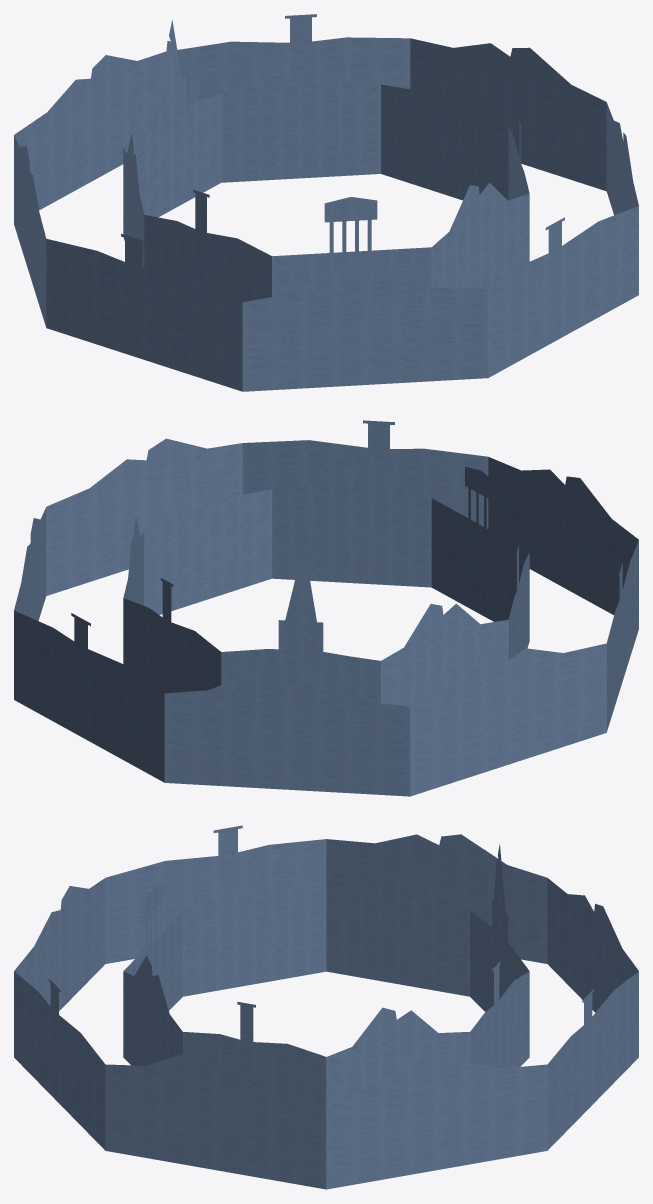
File: env-backdrop-a.glb
3 renders of one model, top to bottom at view 1: azimuth 30°, elevation 25°; view 2: azimuth 150°, elevation 25°; view 3: azimuth 270°, elevation 25°, orthographic. The views are drawn at different scales.
Parts seen in each view (by area): view 1: VIS_backdrop_far_06_gable, VIS_backdrop_far_05_chimney, VIS_backdrop_near_02_chimney, VIS_backdrop_far_07_chimney, VIS_backdrop_far_01_gable, VIS_backdrop_far_03_gable, VIS_backdrop_near_01_gable, VIS_backdrop_far_02_chimney, VIS_backdrop_near_03_spire, VIS_backdrop_near_07_gable, VIS_backdrop_near_05_chimney, VIS_backdrop_near_06_tower (+4 smaller); view 2: VIS_backdrop_far_03_gable, VIS_backdrop_far_04_gable, VIS_backdrop_near_07_gable, VIS_backdrop_far_08_gable, VIS_backdrop_far_02_chimney, VIS_backdrop_far_06_gable, VIS_backdrop_near_08_chimney, VIS_backdrop_far_07_chimney, VIS_backdrop_near_06_tower, VIS_backdrop_near_03_spire, VIS_backdrop_near_04_gable, VIS_backdrop_near_02_chimney (+4 smaller); view 3: VIS_backdrop_far_08_gable, VIS_backdrop_far_01_gable, VIS_backdrop_near_04_gable, VIS_backdrop_near_05_chimney, VIS_backdrop_far_05_chimney, VIS_backdrop_far_04_gable, VIS_backdrop_far_02_chimney, VIS_backdrop_far_07_chimney, VIS_backdrop_far_03_gable, VIS_backdrop_near_01_gable, VIS_backdrop_far_06_gable, VIS_backdrop_near_08_chimney (+4 smaller).
Part boxes in pixels (x1,y1,x2,y2): VIS_backdrop_far_06_gable: (242, 268, 488, 391); VIS_backdrop_far_05_chimney: (46, 233, 242, 391); VIS_backdrop_near_02_chimney: (221, 47, 380, 182); VIS_backdrop_far_07_chimney: (488, 206, 638, 377); VIS_backdrop_far_01_gable: (410, 38, 606, 191); VIS_backdrop_far_03_gable: (14, 52, 164, 210); VIS_backdrop_near_01_gable: (381, 68, 508, 200); VIS_backdrop_far_02_chimney: (164, 14, 410, 106); VIS_backdrop_near_03_spire: (123, 20, 221, 217); VIS_backdrop_near_07_gable: (431, 183, 529, 288); VIS_backdrop_near_05_chimney: (144, 189, 271, 302); VIS_backdrop_near_06_tower: (272, 197, 431, 296); VIS_backdrop_far_03_gable: (164, 669, 410, 796); VIS_backdrop_far_04_gable: (410, 643, 606, 796); VIS_backdrop_near_07_gable: (272, 453, 431, 587); VIS_backdrop_far_08_gable: (46, 438, 242, 595); VIS_backdrop_far_02_chimney: (14, 610, 164, 782); VIS_backdrop_far_06_gable: (488, 457, 638, 614); VIS_backdrop_near_08_chimney: (144, 464, 271, 614); VIS_backdrop_far_07_chimney: (242, 420, 488, 528); VIS_backdrop_near_06_tower: (431, 466, 529, 621); VIS_backdrop_near_03_spire: (221, 555, 380, 702); VIS_backdrop_near_04_gable: (381, 603, 508, 706); VIS_backdrop_near_02_chimney: (123, 578, 221, 693); VIS_backdrop_far_08_gable: (105, 1051, 326, 1189); VIS_backdrop_far_01_gable: (326, 1060, 547, 1189); VIS_backdrop_near_04_gable: (326, 861, 469, 996); VIS_backdrop_near_05_chimney: (183, 855, 326, 996); VIS_backdrop_far_05_chimney: (105, 825, 326, 963); VIS_backdrop_far_04_gable: (326, 834, 547, 963); VIS_backdrop_far_02_chimney: (547, 971, 638, 1150); VIS_backdrop_far_07_chimney: (14, 971, 105, 1150); VIS_backdrop_far_03_gable: (547, 878, 638, 1012); VIS_backdrop_near_01_gable: (326, 1007, 469, 1102); VIS_backdrop_far_06_gable: (14, 878, 105, 1010); VIS_backdrop_near_08_chimney: (183, 1001, 326, 1102).
Size of the model in its own units: 80 by 26 by 80.
Materials: 1 (1 with a texture image).
